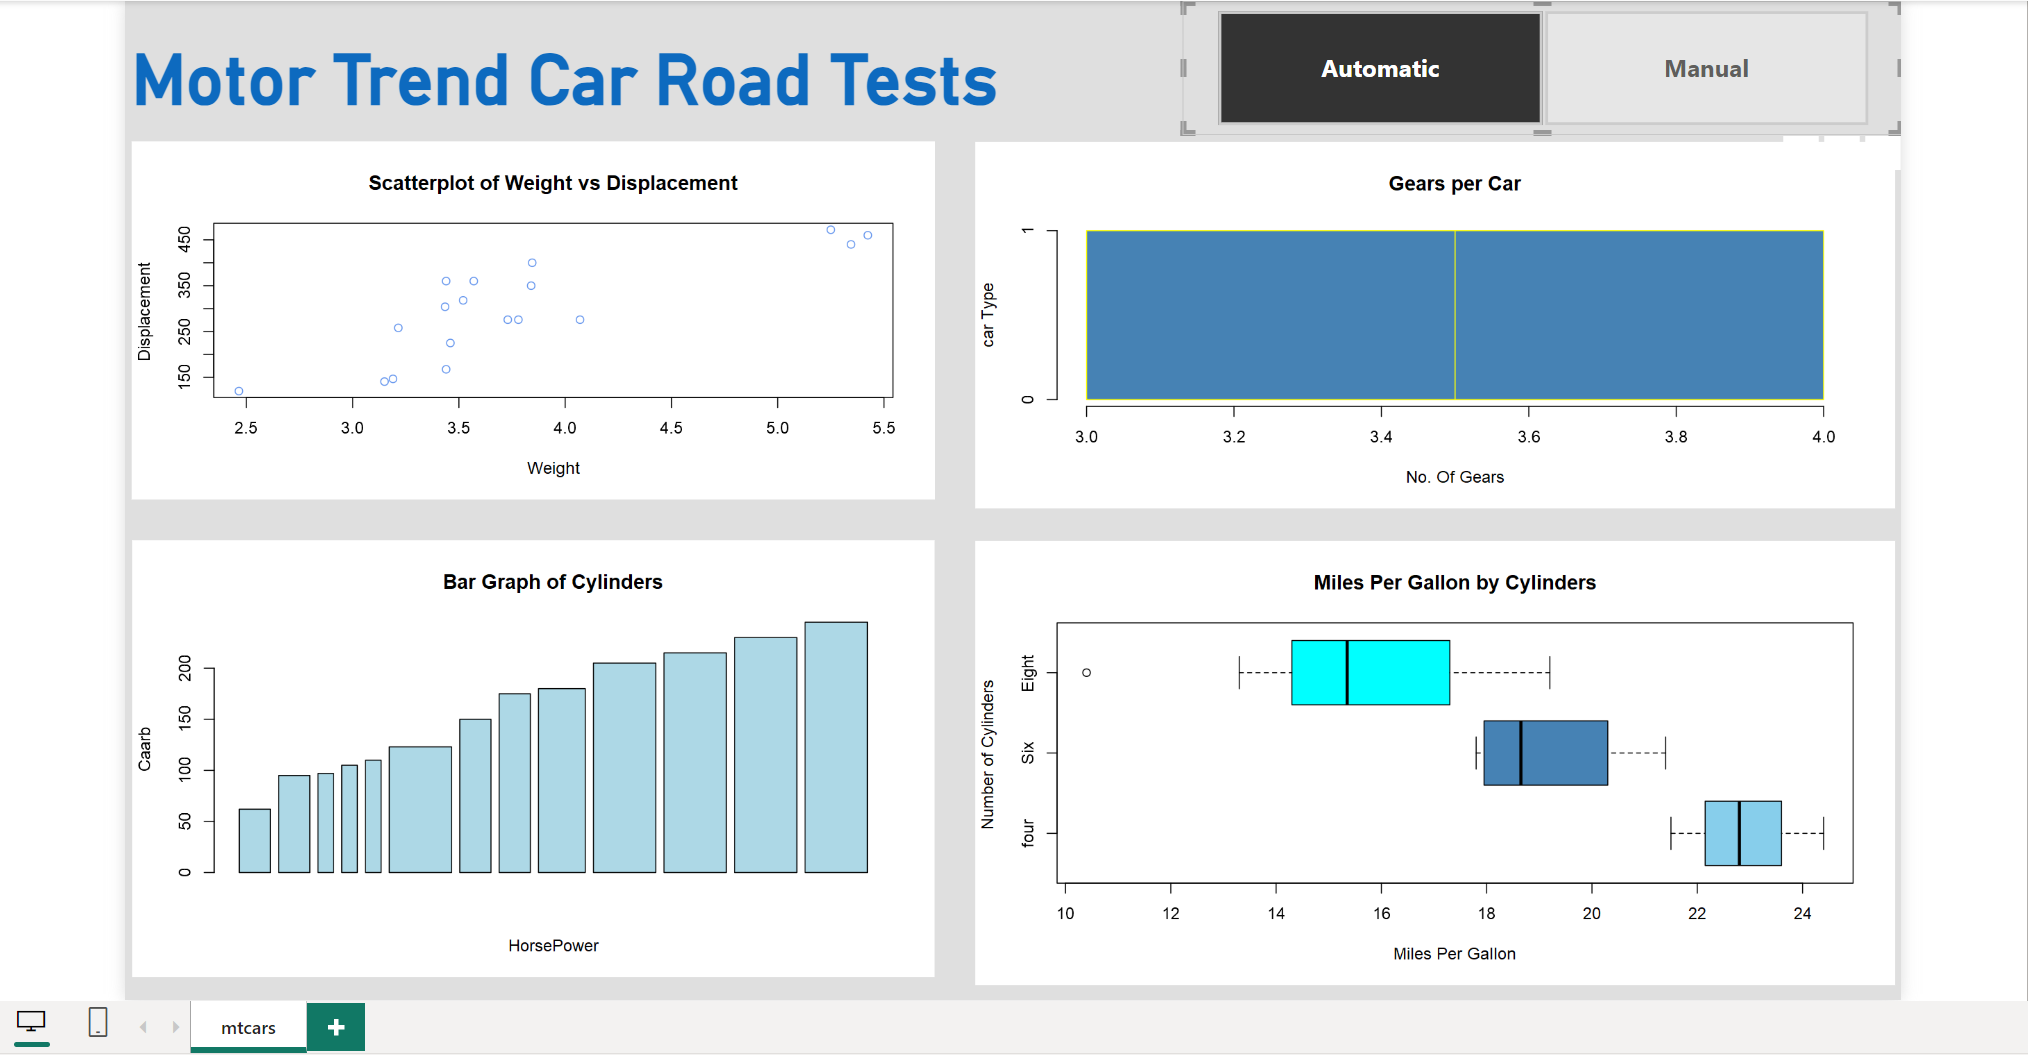

What the dashboard file says about the page in this screenshot:
{"tool":"powerbi","page":{"name":"mtcars","canvas":[1280,720],"ordinal":0},"visuals":[{"type":"scriptVisual","fields":{"Values":["mtcars.mpg","mtcars.cyl"]},"box":[607,383.1,673,330],"z":0},{"type":"slicer","fields":{"Values":["mtcars.Transmission Type"]},"box":[762,0,518,96.1],"z":1000},{"type":"scriptVisual","fields":{"Values":["mtcars.gear","mtcars.am"]},"box":[607,96.1,673,274.1],"z":2000},{"type":"scriptVisual","fields":{"Values":["mtcars.hp","mtcars.carb"]},"box":[0,383.1,588.3,324.3],"z":3001},{"type":"scriptVisual","fields":{"Values":["mtcars.wt","mtcars.disp"]},"box":[0,96.1,588.3,268.3],"z":3002},{"type":"textbox","box":[0,21.5,786.4,74.6],"z":3003}]}

Visuals, with their boxes on the page's 1280x720 design canvas (x1, y1, x2, y2). These are canvas units, not pixel positions in the 2028x1055 screenshot, which may show the page scaled, cropped or inside an application window:
scriptVisual - mtcars.mpg x mtcars.cyl: 607:383:1280:713
slicer - mtcars.Transmission Type: 762:0:1280:96
scriptVisual - mtcars.gear x mtcars.am: 607:96:1280:370
scriptVisual - mtcars.hp x mtcars.carb: 0:383:588:707
scriptVisual - mtcars.wt x mtcars.disp: 0:96:588:364
textbox: 0:22:786:96
